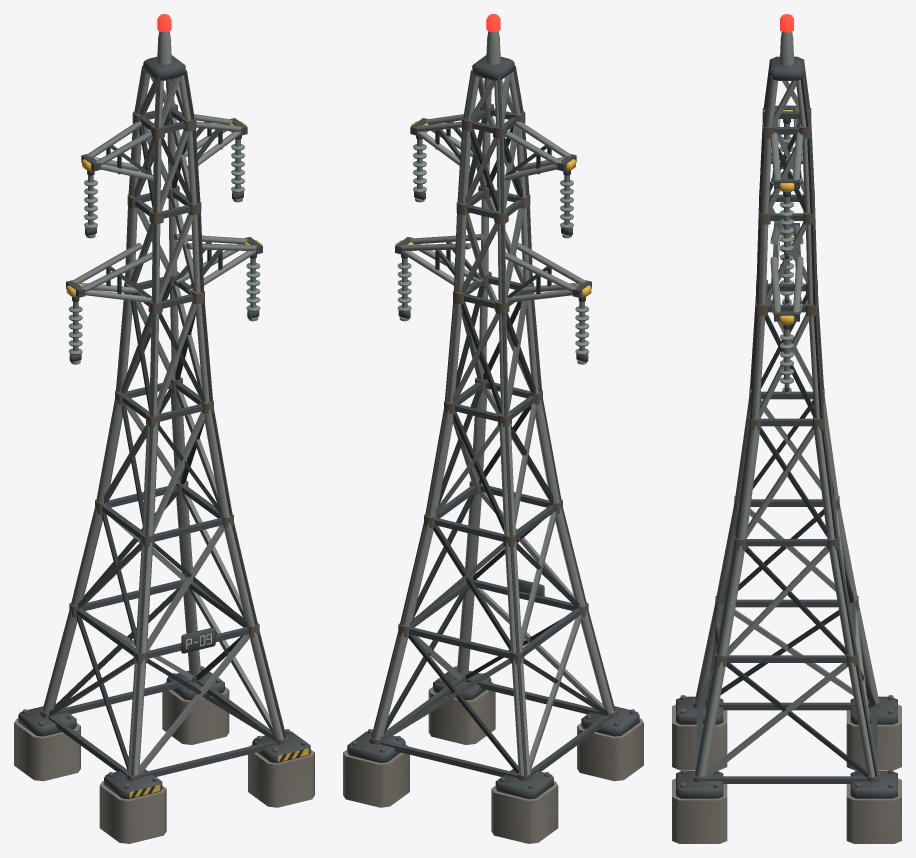
Rendered from power_pylon_tower.glb.
3 renders of one model, left to right at view 1: azimuth 30°, elevation 25°; view 2: azimuth 150°, elevation 25°; view 3: azimuth 270°, elevation 25°, orthographic.
Parts seen in each view (by area): view 1: Tapered double-angle lattice, Foundation, Dual transmission crossarms, Crown and network identification; view 2: Tapered double-angle lattice, Foundation, Dual transmission crossarms, Crown and network identification; view 3: Tapered double-angle lattice, Foundation, Dual transmission crossarms, Crown and network identification.
Boxes of the visible parts, x1,y1,x2,y2 form: Tapered double-angle lattice: (40,65,288,781); Foundation: (14,666,314,843); Dual transmission crossarms: (66,112,262,364); Crown and network identification: (143,14,215,653); Tapered double-angle lattice: (369,65,617,781); Foundation: (343,666,643,843); Dual transmission crossarms: (395,114,591,364); Crown and network identification: (472,14,544,603); Tapered double-angle lattice: (693,63,880,783); Foundation: (672,695,901,843); Dual transmission crossarms: (770,105,803,393); Crown and network identification: (715,14,804,644).
Size of the model in its own units: 6 by 22.45 by 6.
